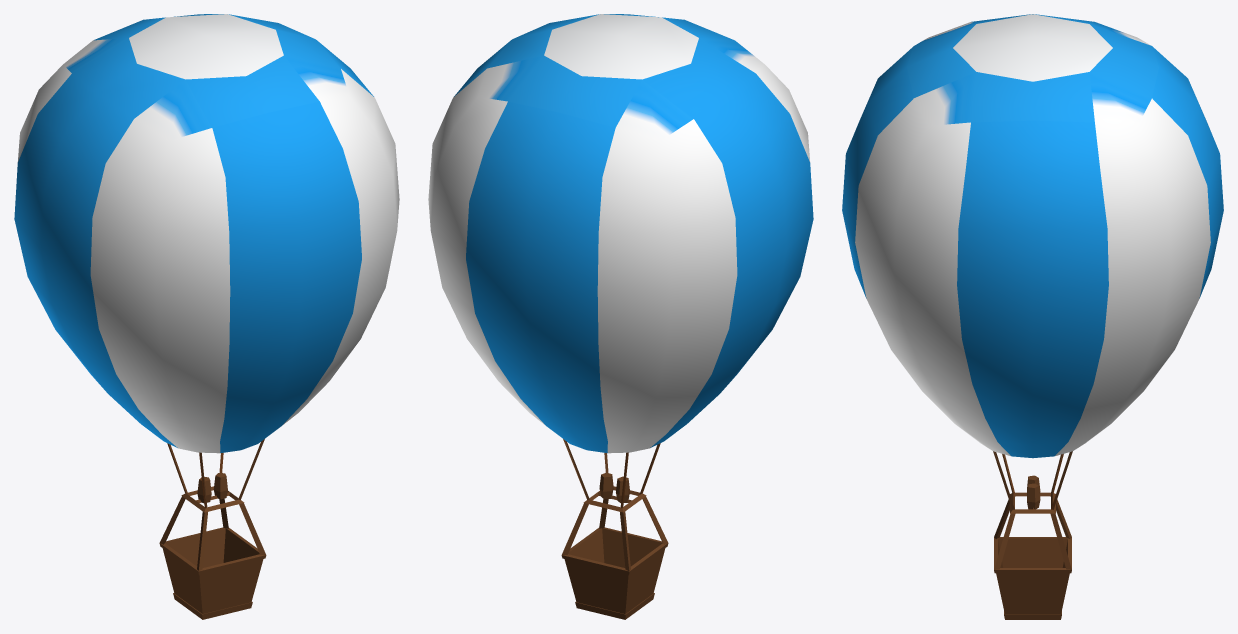
File: hot_air_balloon-v2.glb
3 views of the same model, side by side, from view 1: azimuth 30°, elevation 25°; view 2: azimuth 150°, elevation 25°; view 3: azimuth 270°, elevation 25° (orthographic).
Visible parts, largest first — view 1: Object_85; view 2: Object_85; view 3: Object_85.
Boxes of the visible parts, x1,y1,x2,y2 form: Object_85: (14,14,399,619); Object_85: (428,14,813,619); Object_85: (842,14,1223,619).
Size of the model in its own units: 5.03 by 8.26 by 5.03.
Materials: 1 (1 with a texture image).
